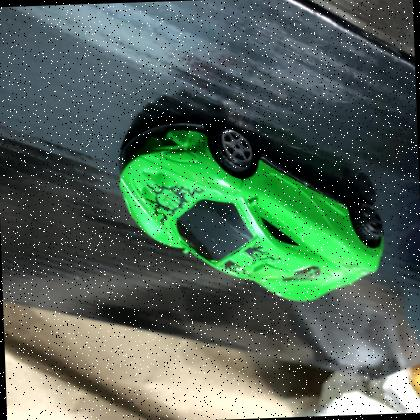Car: (118, 118, 384, 302)
